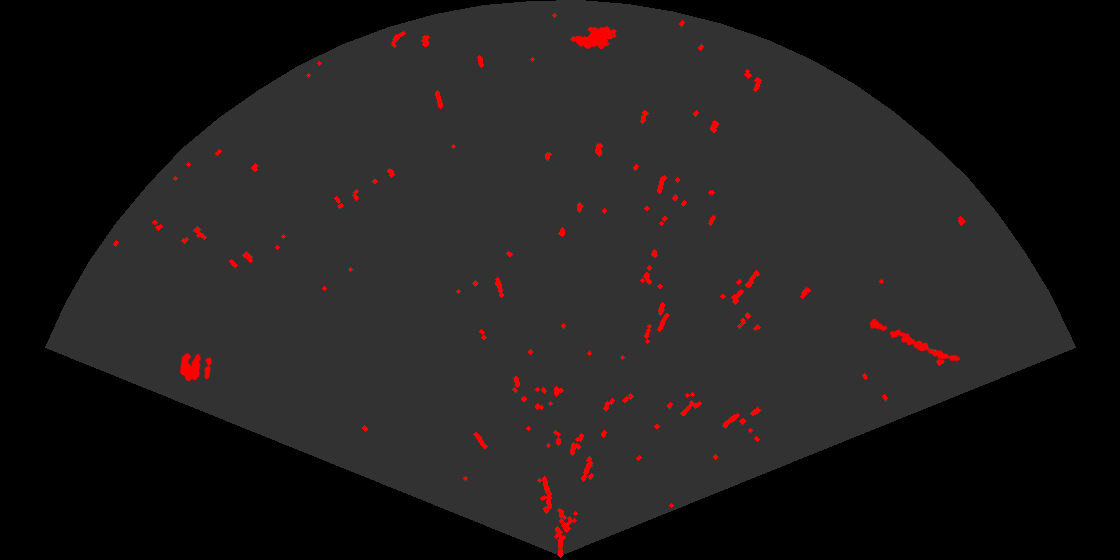AUV: (569, 25, 618, 51)
ball: (178, 351, 213, 383)
chain: (868, 317, 962, 363)
